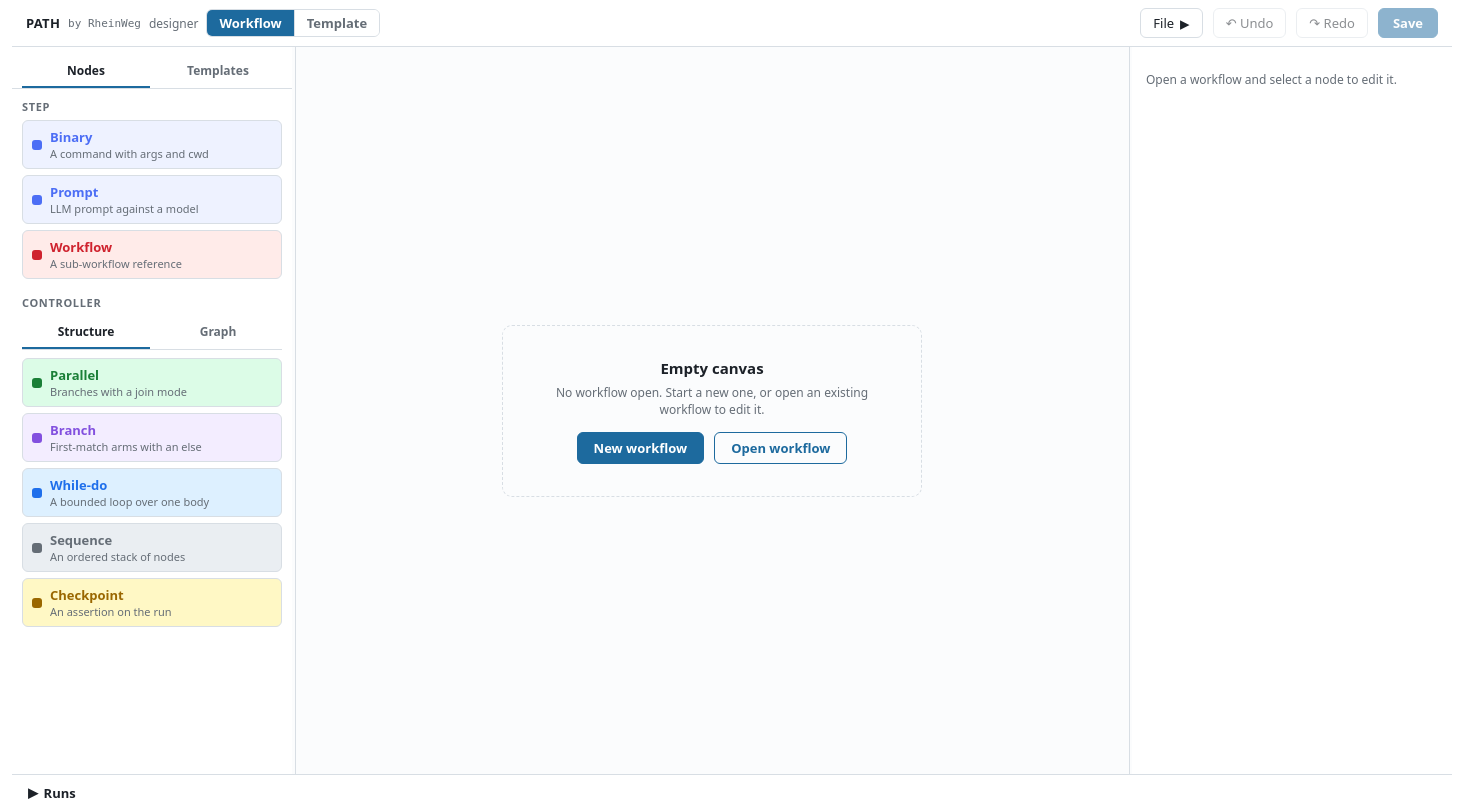
from-scratch buffer — no path, no lease until first save › starts an empty buffer that takes no lease and cannot launch yet
Click the button "New workflow".
click(640, 448)  # box [577,432,704,464]
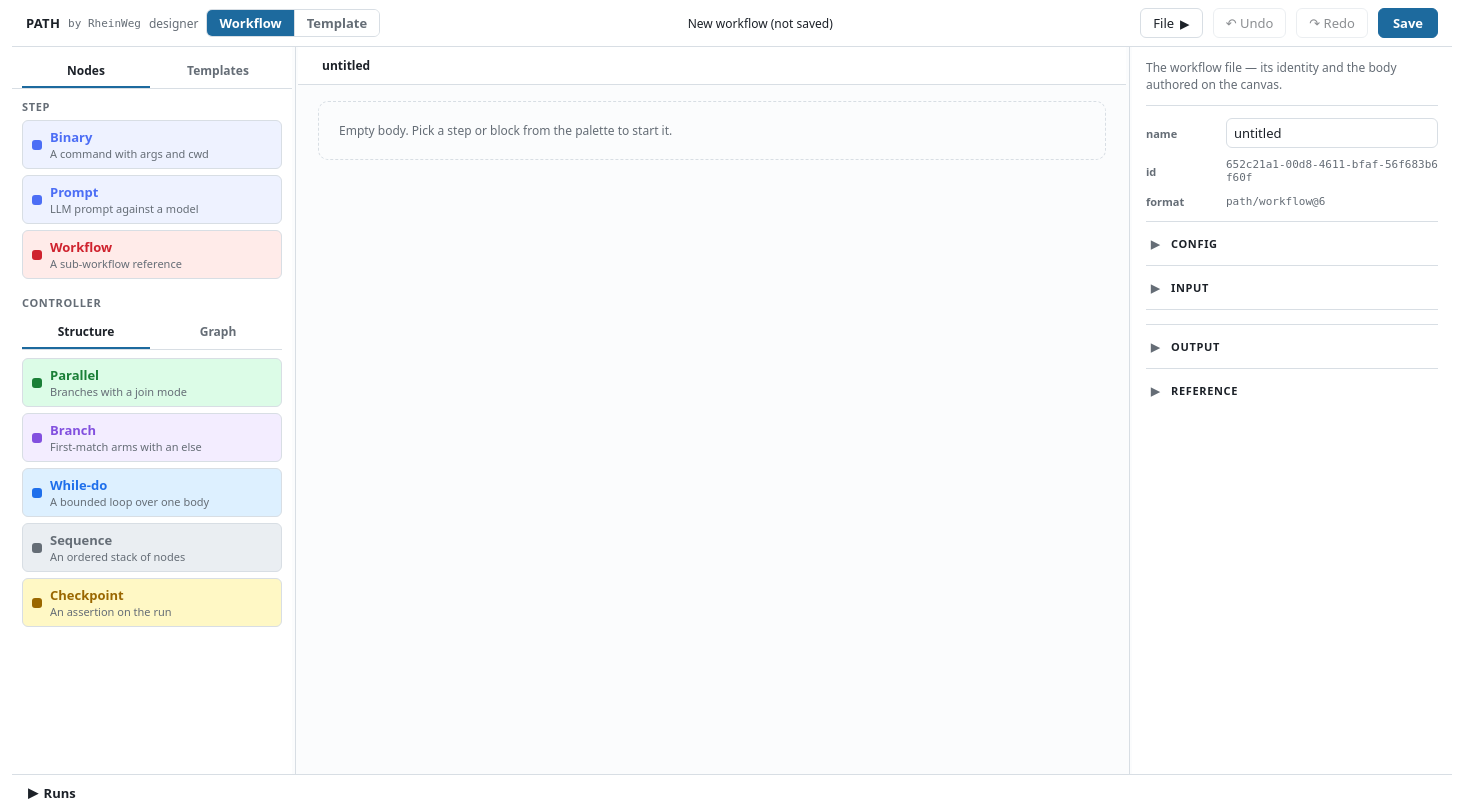
Now the element named "Start a body" is shown, box [318,101,1106,160]
Now the button "Save" is enabled, box [1378,8,1438,38]
Now the element named "Workflow canvas" is shown, box [298,47,1126,160]
Launch is gated on the first save — there is no path for the server to load.
Click the button with test id "run-dock-toggle".
click(52, 792)  # box [22,779,82,806]
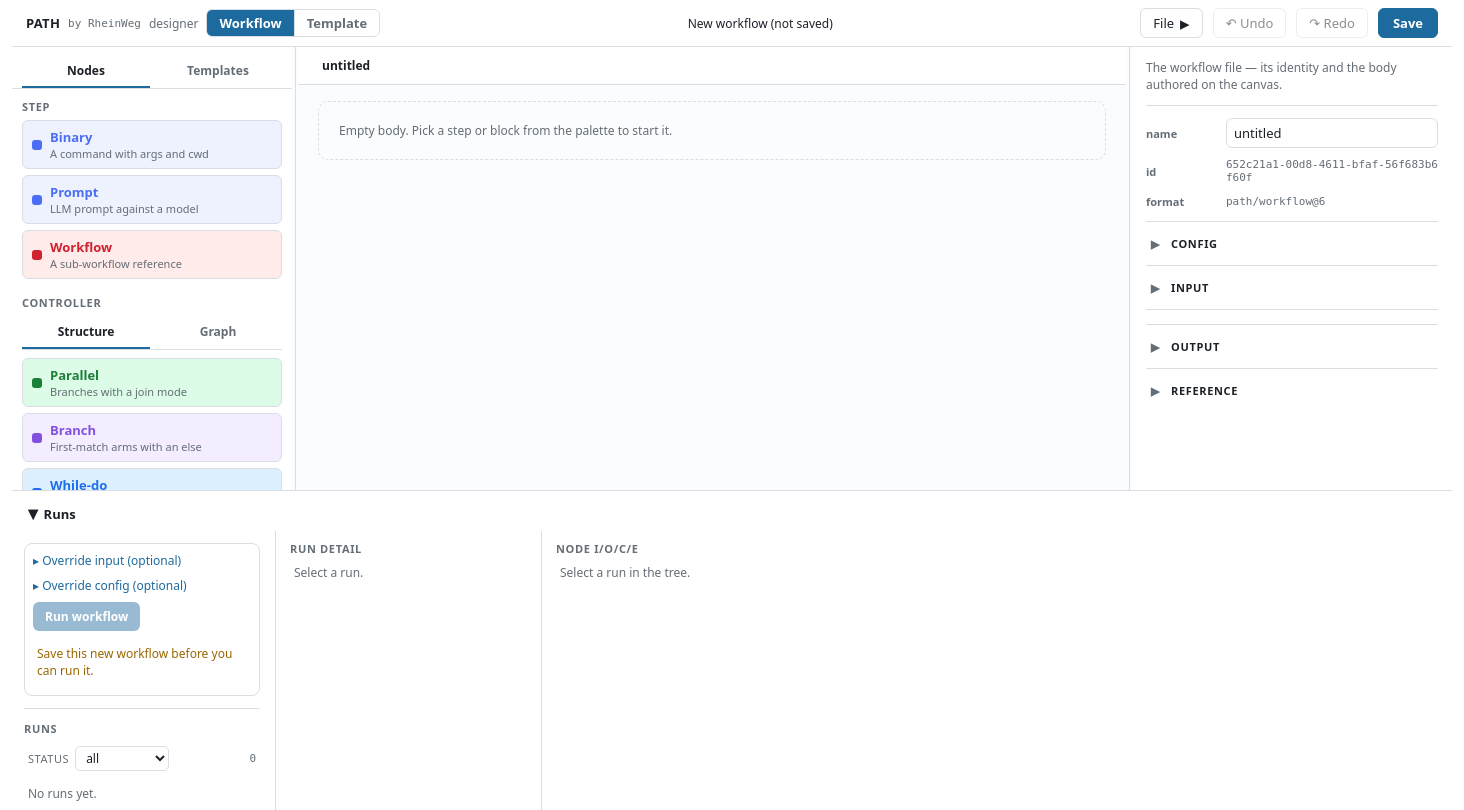
Now the text with test id "run-launch-gate" reads "Save this new workflow before you can run it.", box [37,645,232,679]
